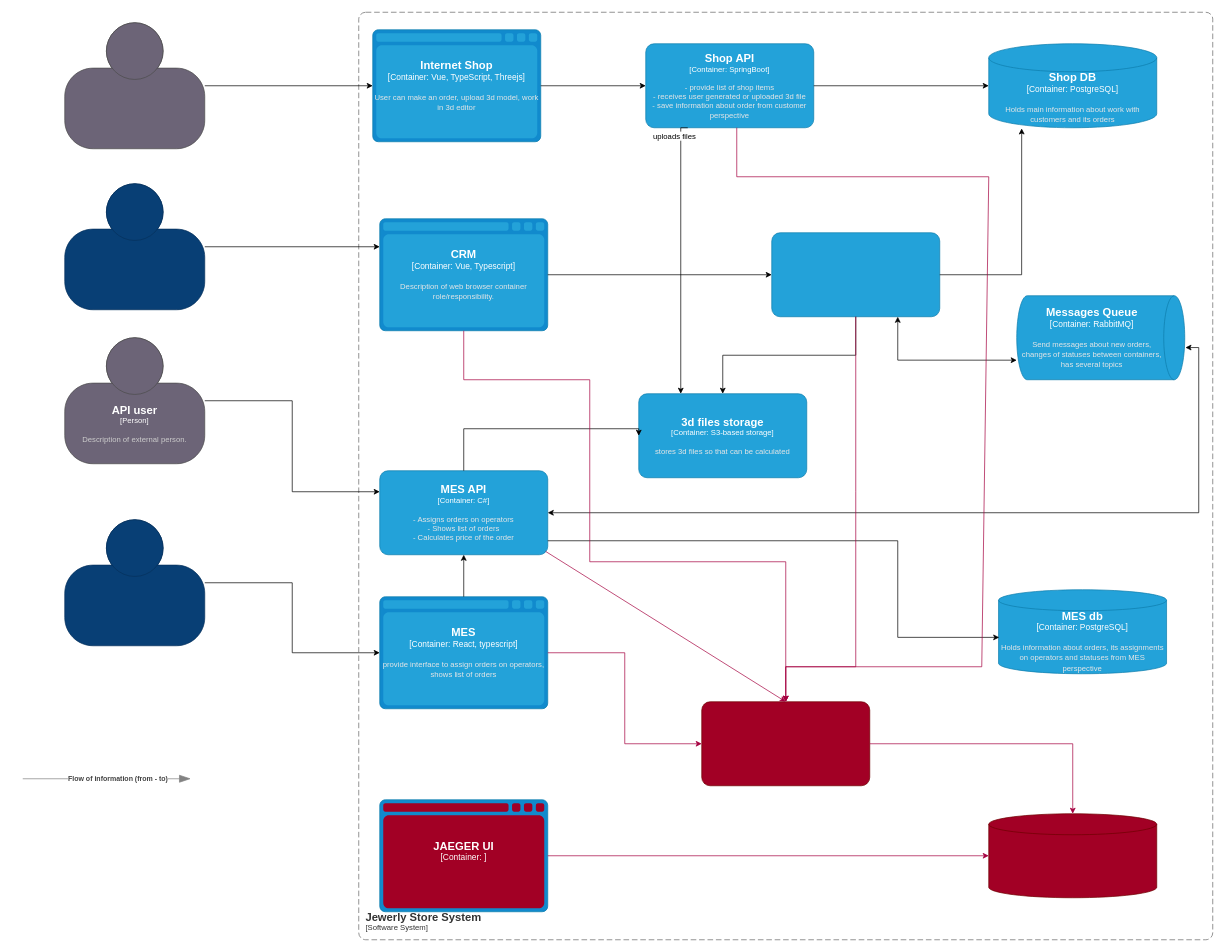
The diagram is 1225 pixels wide and 952 high, and some of its shapes have lost their labels. The centre of each missing label's shape, as x and y in pixels:
CRM API [Container: SpringBoot] Description of container role/responsibility.: the point at 855,274
Customer [Person] Description of external person.: the point at 134,85
Jaeger db [Container: PostgreSQL] database Jaeger: the point at 1072,855
Open Telemetry [Container: ] Tracing Service: the point at 785,743
Operator [Person] Takes order in work, manufactures jewerly: the point at 134,582
Seller [Person] Operates with order, confirms manufacturing for the user: the point at 134,246
